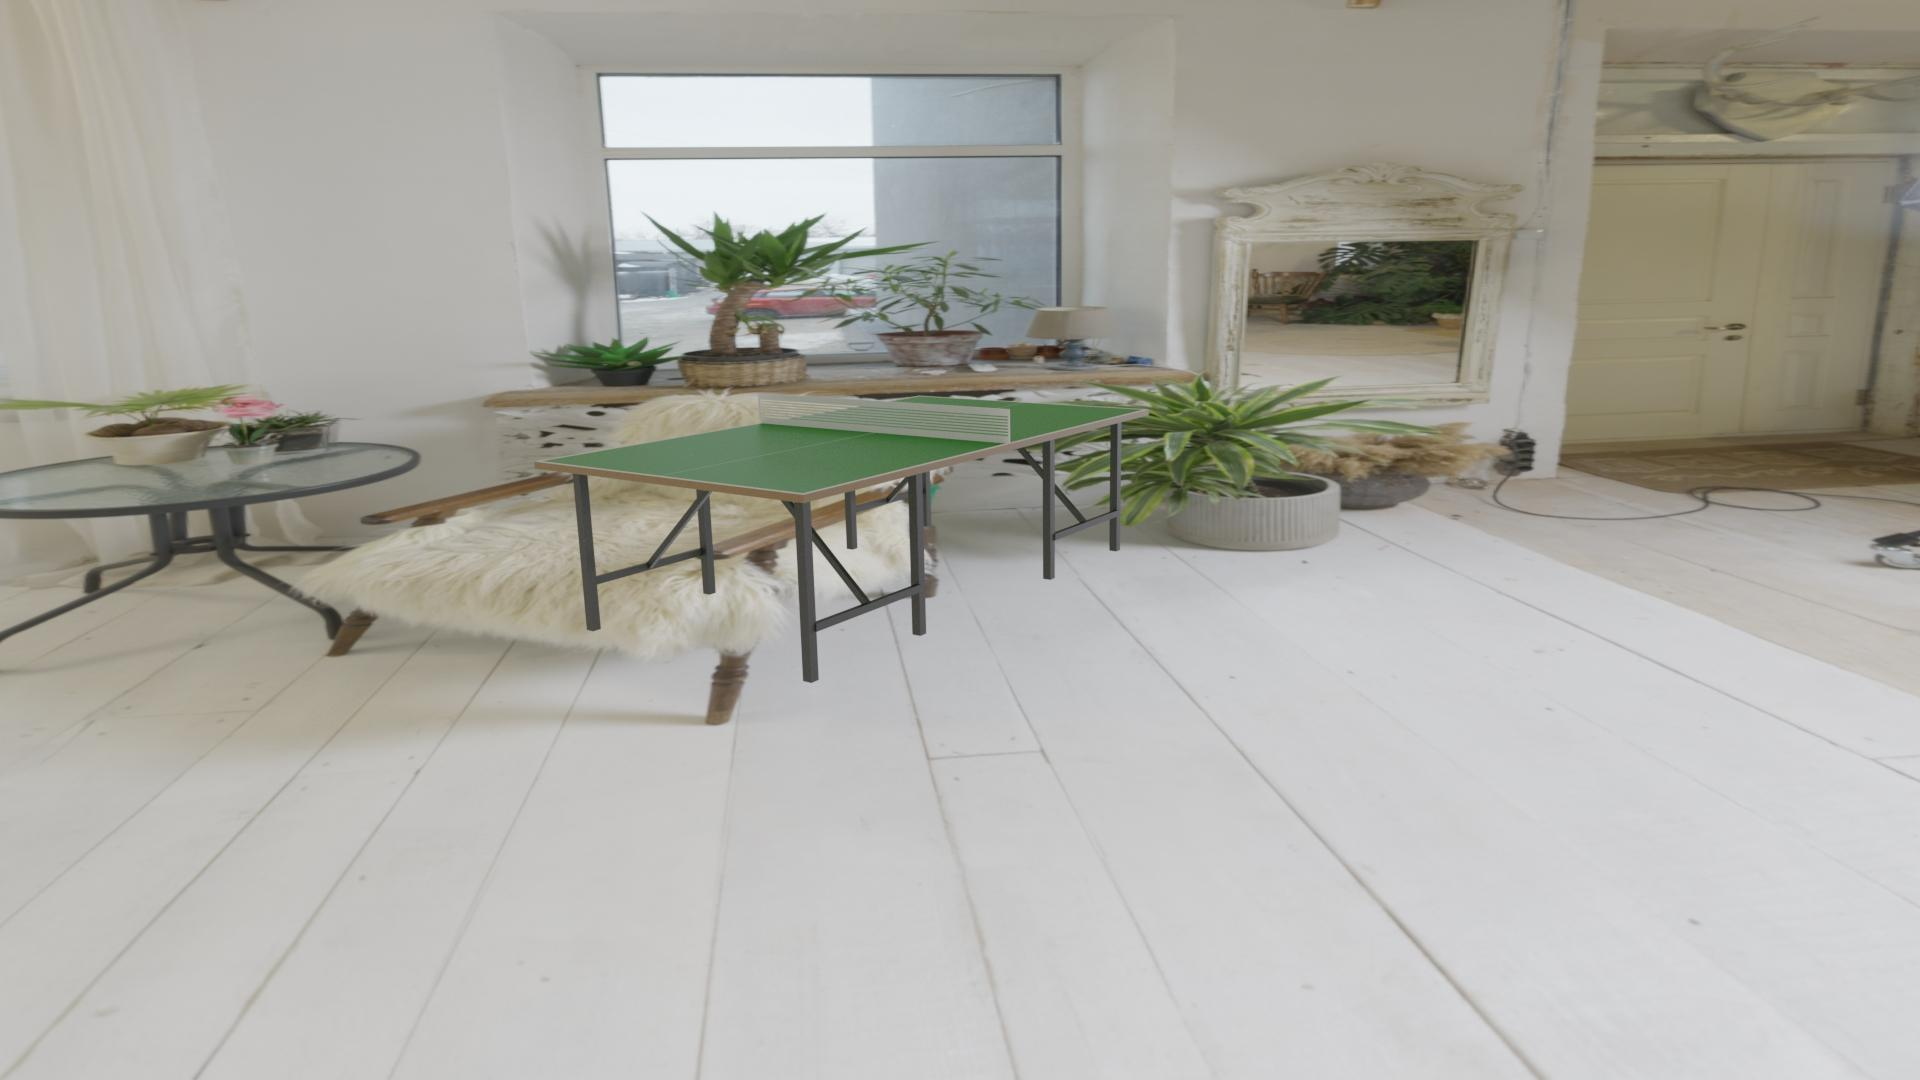table: (541, 396, 1143, 493)
